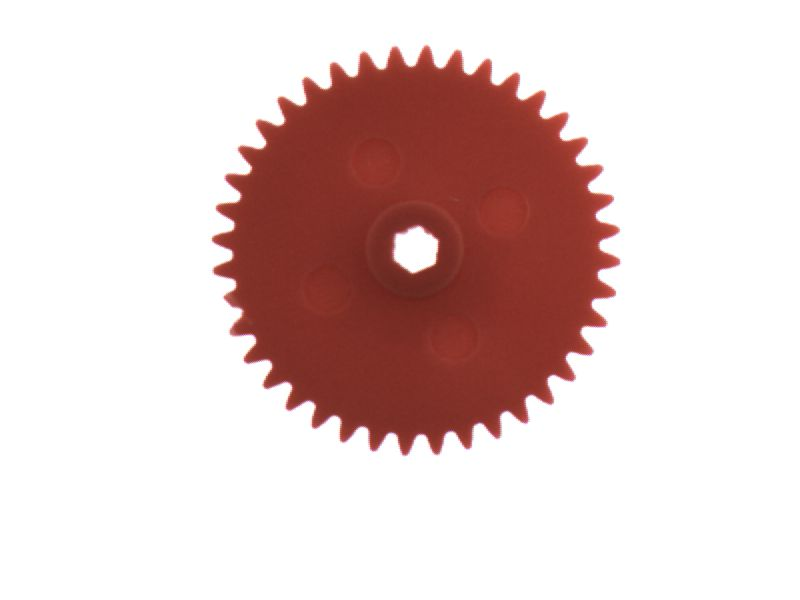defect_break: (199, 284, 252, 321)
